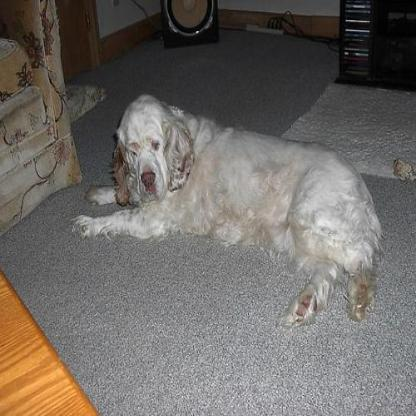clumber: (66, 88, 384, 328)
